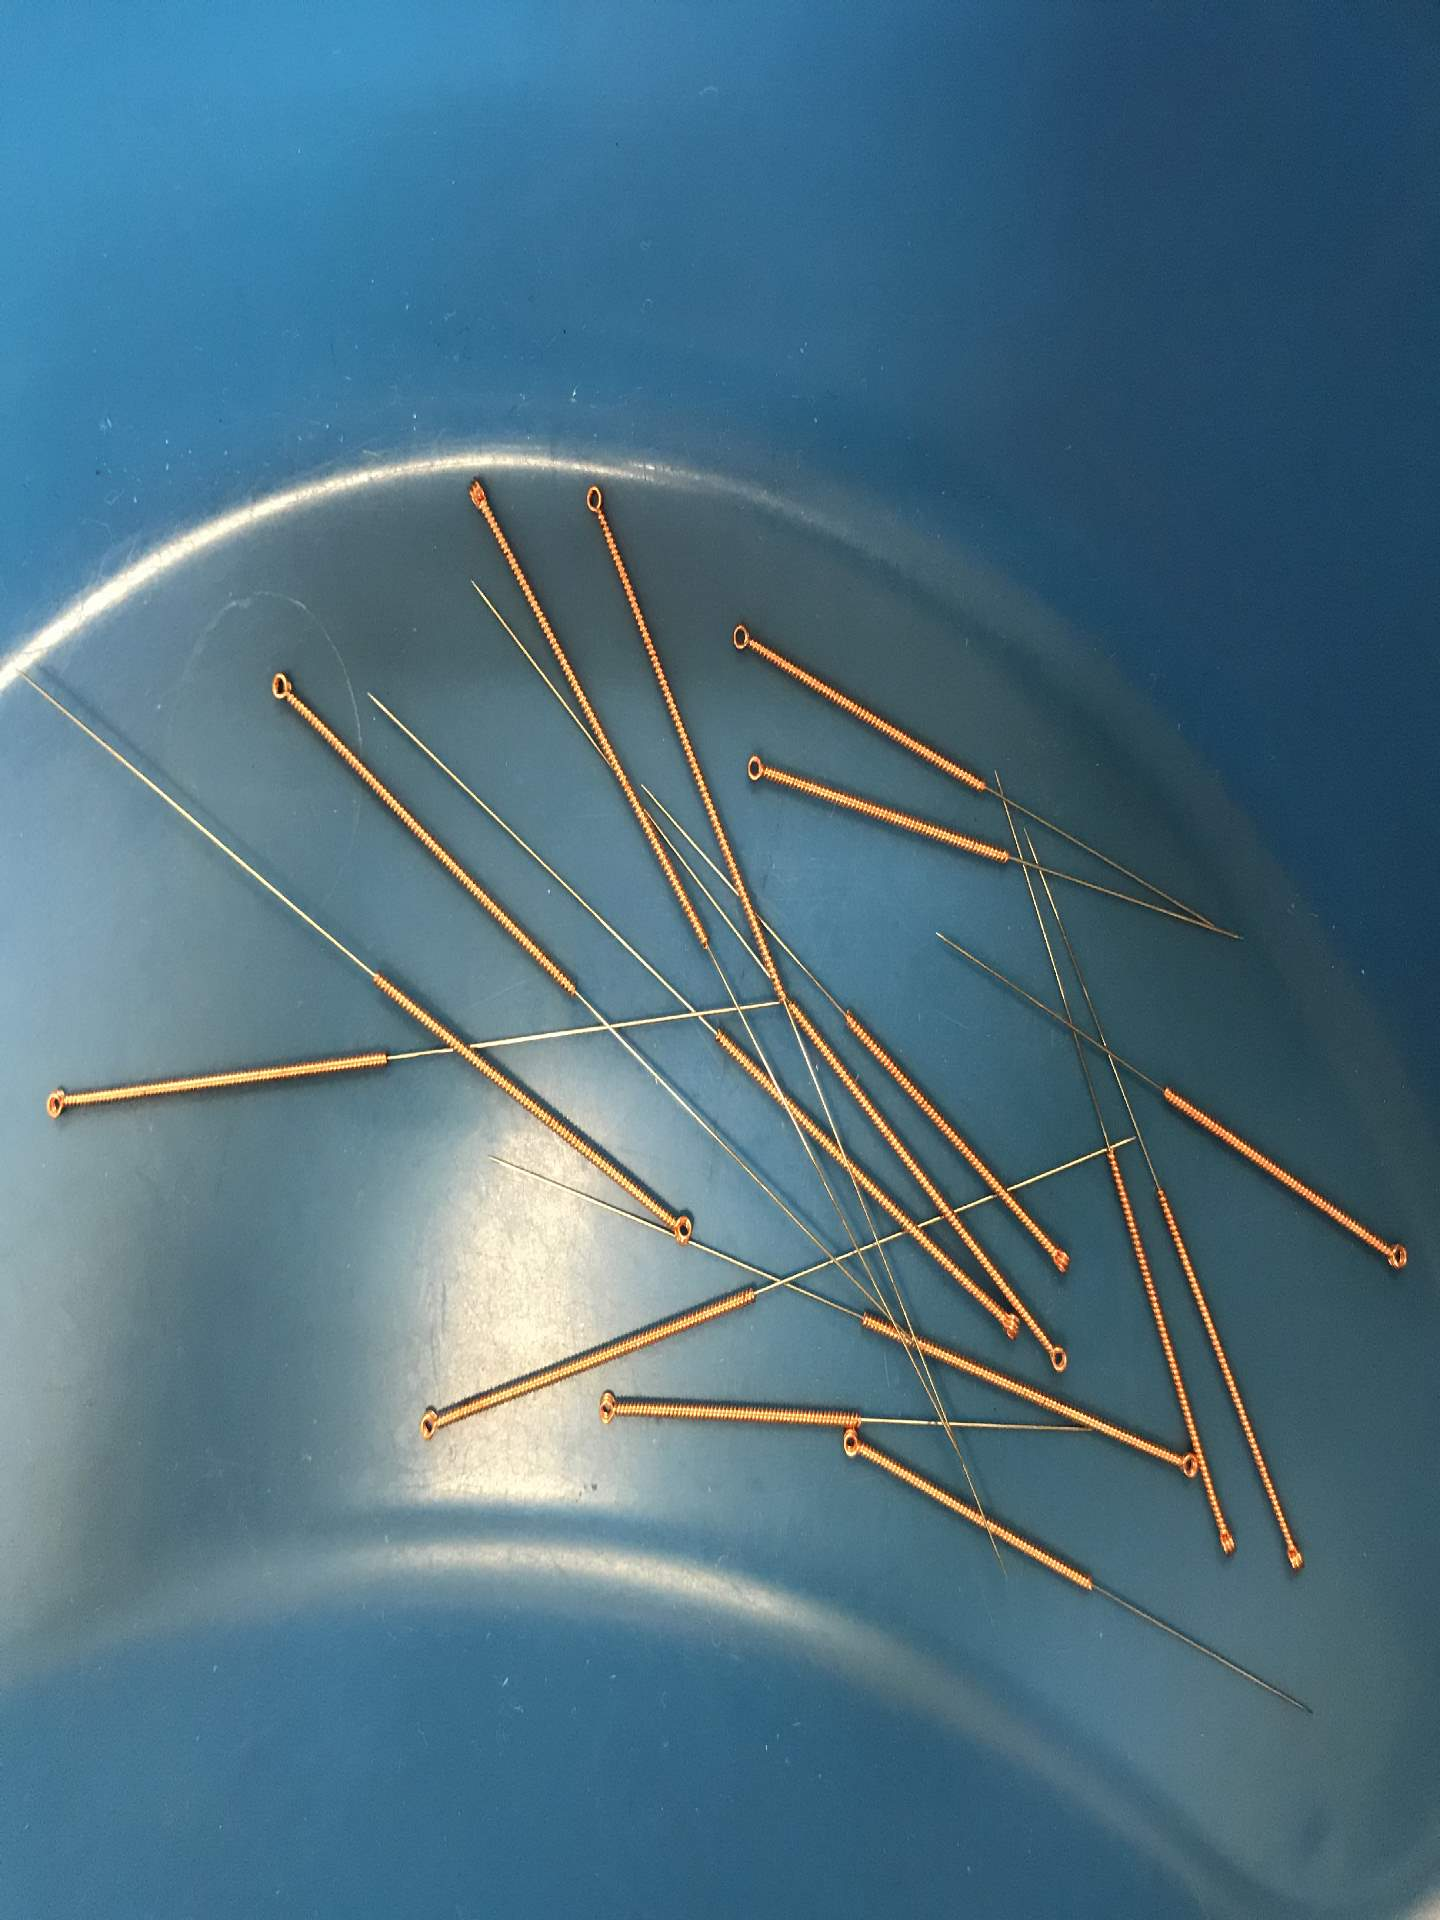needle: (29, 1073, 85, 1134), (256, 659, 309, 720), (715, 609, 768, 668), (655, 1200, 712, 1253), (570, 475, 620, 534), (455, 463, 499, 526), (734, 742, 784, 797), (1203, 1513, 1249, 1571), (1271, 1530, 1317, 1586), (1370, 1226, 1416, 1284), (405, 1398, 452, 1448), (585, 1383, 631, 1432), (829, 1421, 873, 1469), (1038, 1240, 1086, 1284), (1035, 1338, 1082, 1382), (983, 1308, 1026, 1353), (1165, 1444, 1201, 1488)
